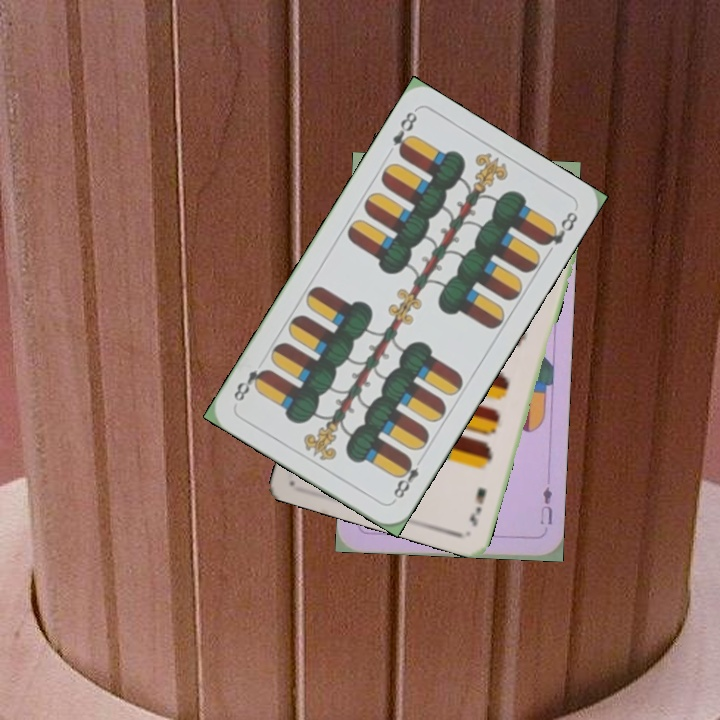E7: (465, 483, 489, 529)
E8: (388, 452, 427, 503), (388, 107, 420, 160)
EU: (536, 483, 555, 528)
